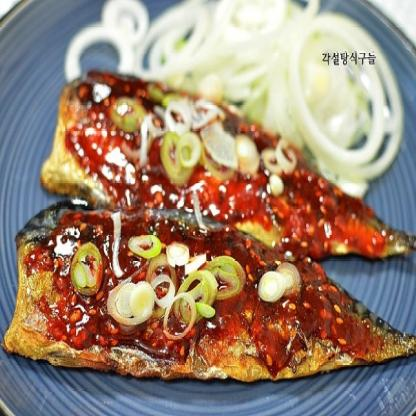Peixe: (5, 227, 416, 394), (43, 86, 410, 266)
